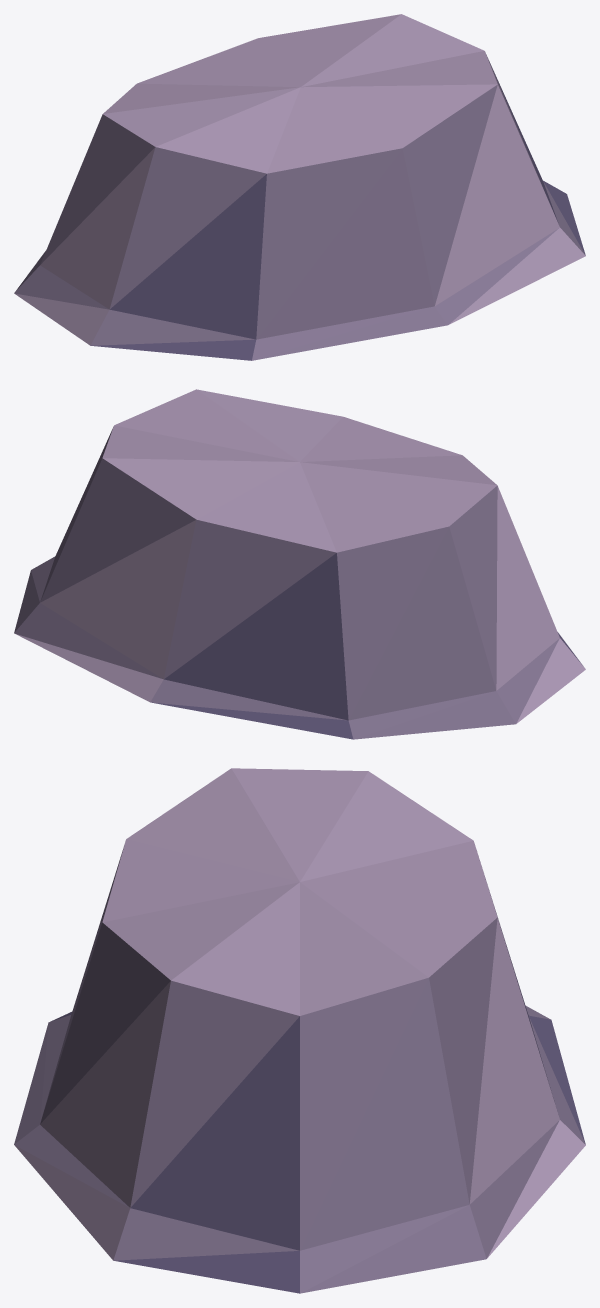
3 renders of one model, top to bottom at view 1: azimuth 30°, elevation 25°; view 2: azimuth 150°, elevation 25°; view 3: azimuth 270°, elevation 25°, orthographic. The views are drawn at different scales.
Parts seen in each view (by area): view 1: 错层台地_4.001; view 2: 错层台地_4.001; view 3: 错层台地_4.001.
Part boxes in pixels (x1,y1,x2,y2): 错层台地_4.001: (14,14,585,360); 错层台地_4.001: (14,389,585,739); 错层台地_4.001: (14,768,585,1293).
Bounding box in the file's own units: 0.8939 × 0.2878 × 0.6283.
